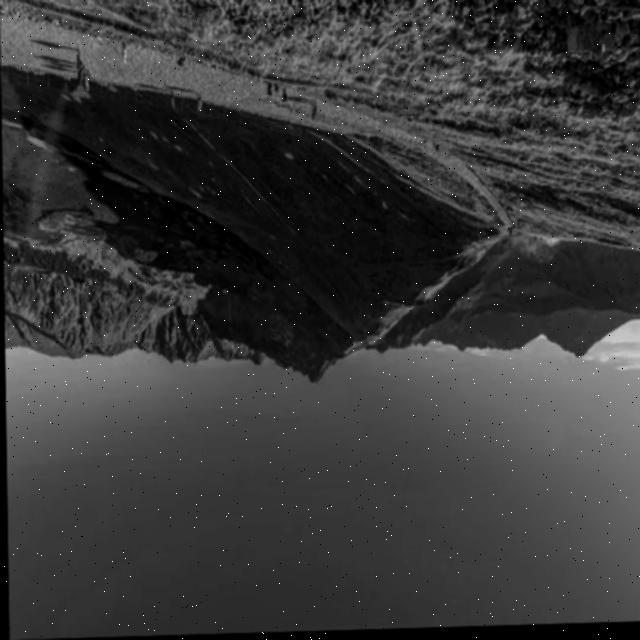Hruby vrch: (438, 316, 488, 388)
Kozi Wierch: (231, 332, 284, 397)
Krivan: (543, 318, 617, 395)
Skrajny i Posredni Granat: (141, 316, 225, 403)
Swinica: (270, 328, 358, 440)
